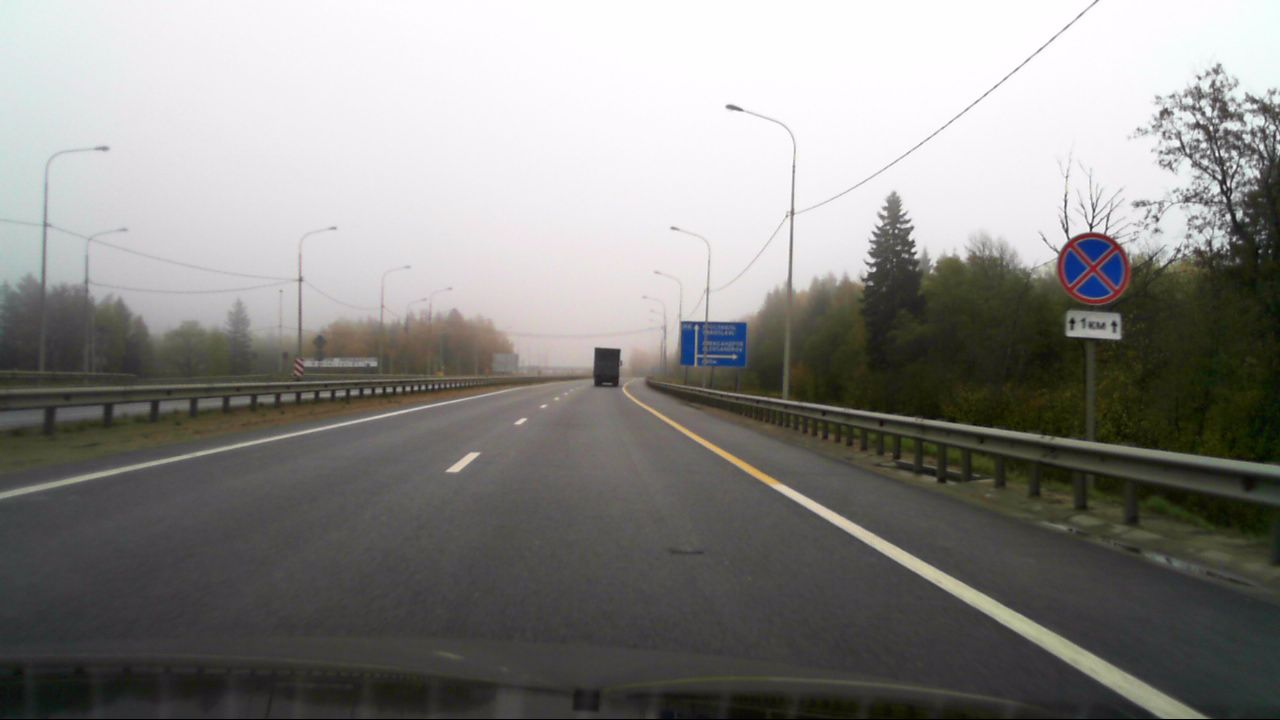No Parking: (1057, 233, 1129, 304)
